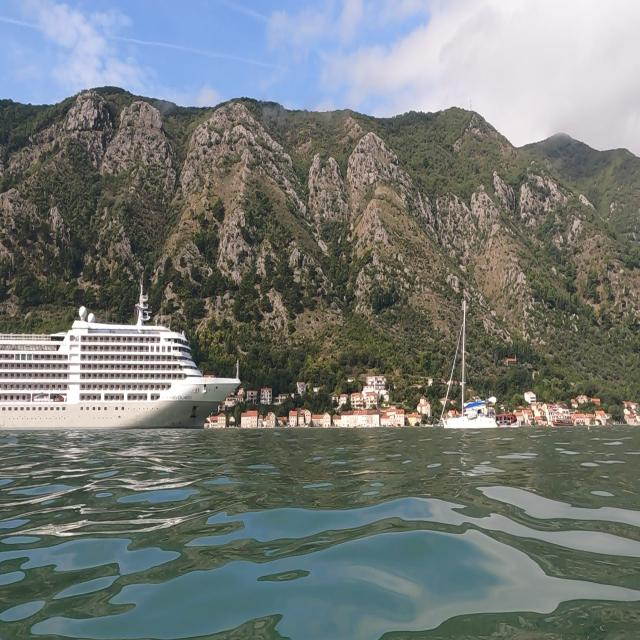boat: (1, 272, 243, 432), (432, 283, 504, 451)
